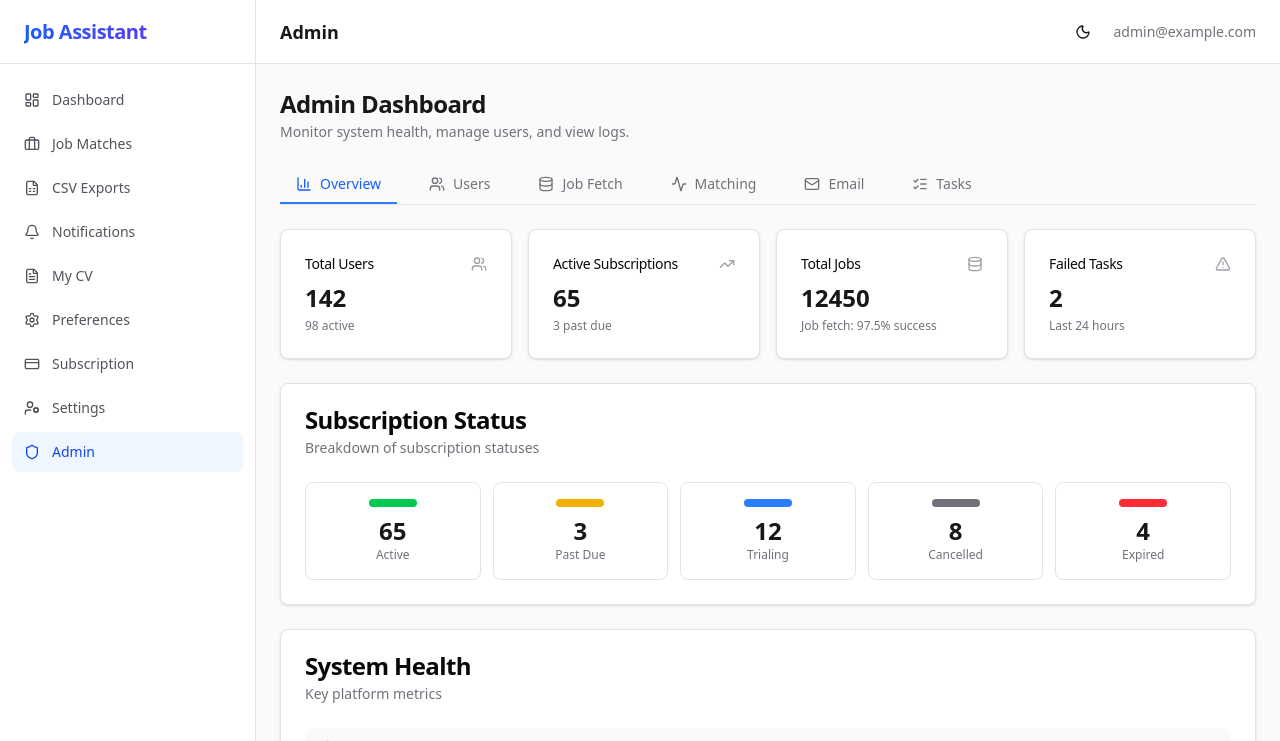
Test: Admin page › as admin › users tab renders table with search
This screenshot has width=1280, height=741.
Click the button "Users" at (460, 185), box [413,166,506,204]
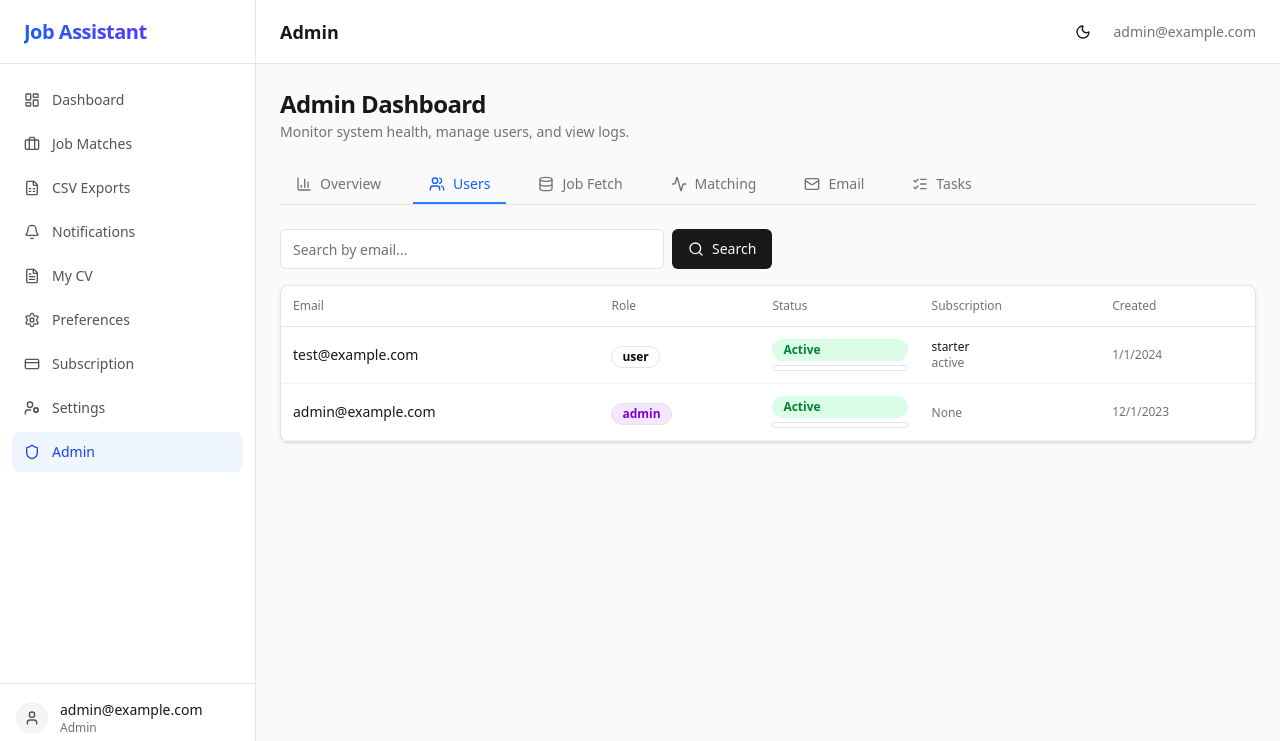
Expected: the field with placeholder "Search by email..." is shown, [280,229,664,269]
Expected: the text "test@example.com" is shown, [281,326,599,384]
